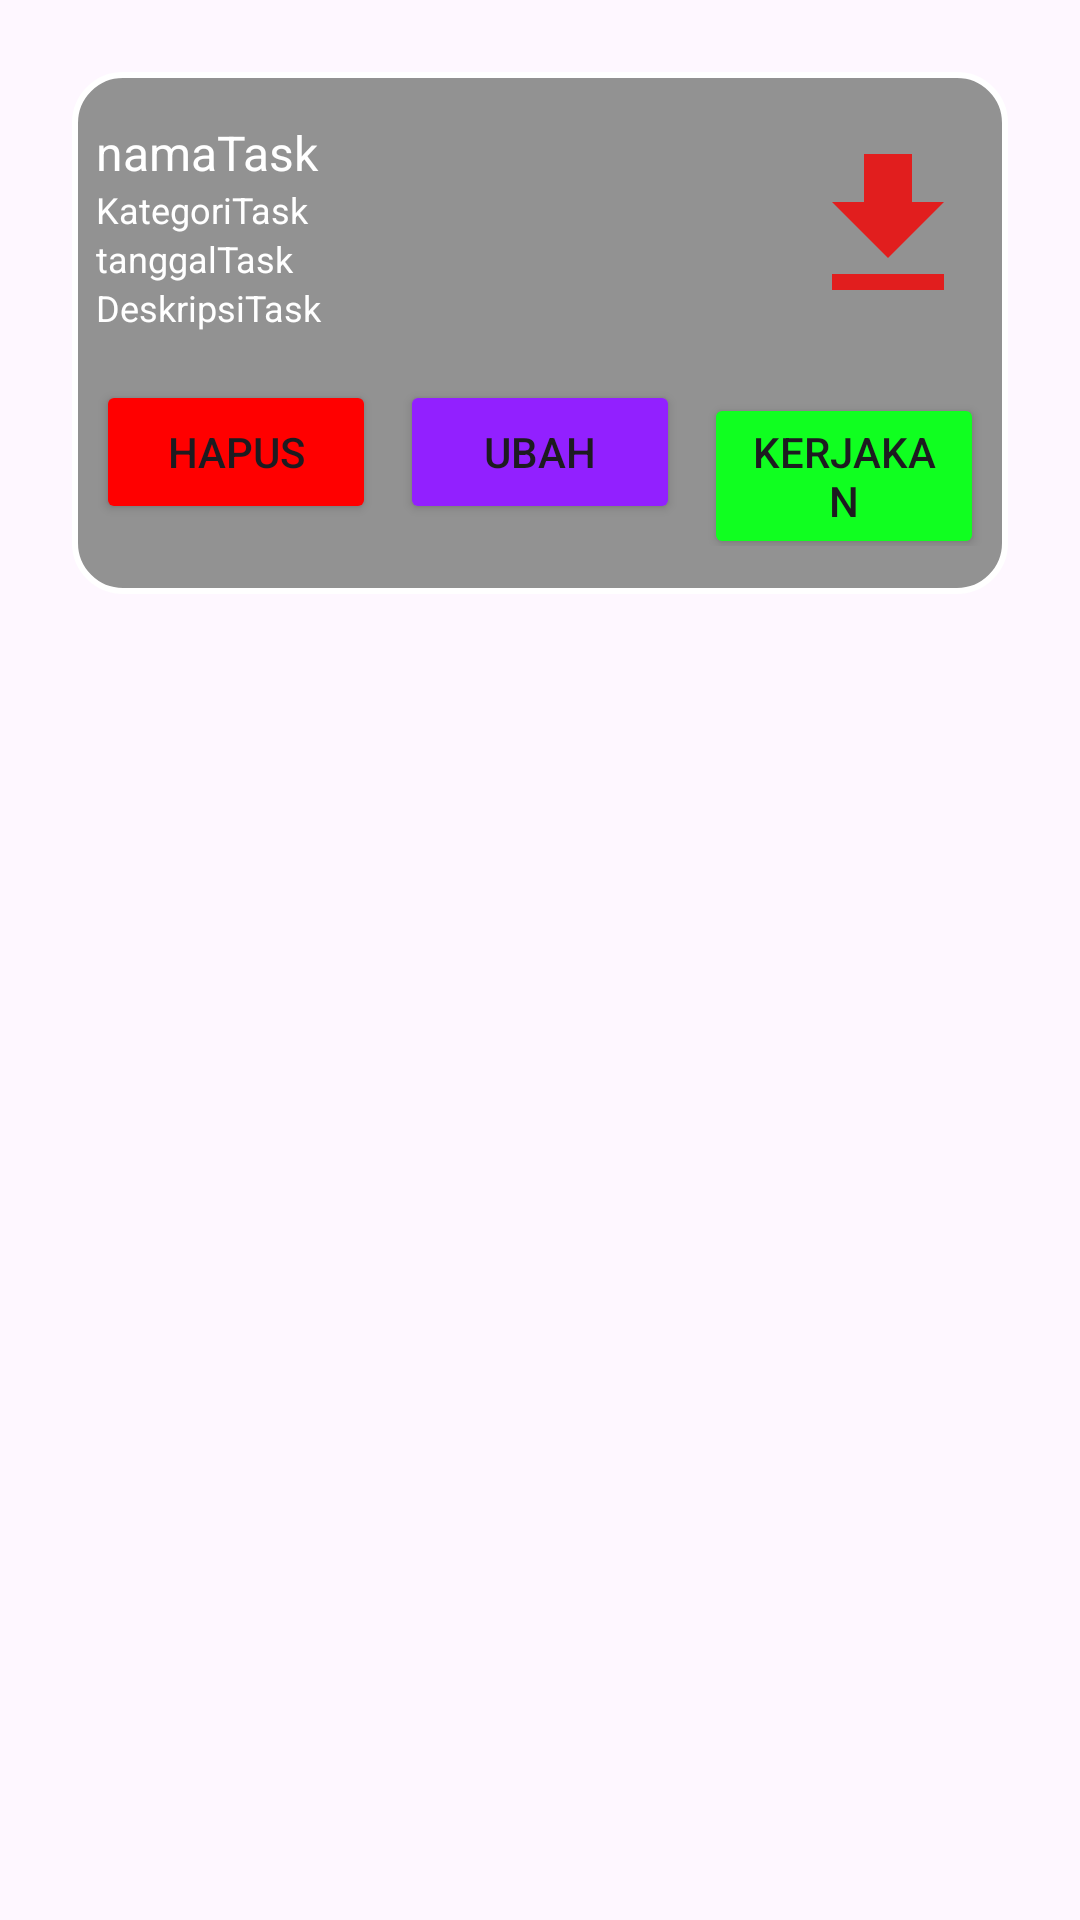

Where icons sit on this 1080×1920 app screen, as (x1, y1, x2, y2):
download: (832, 154, 944, 290)
